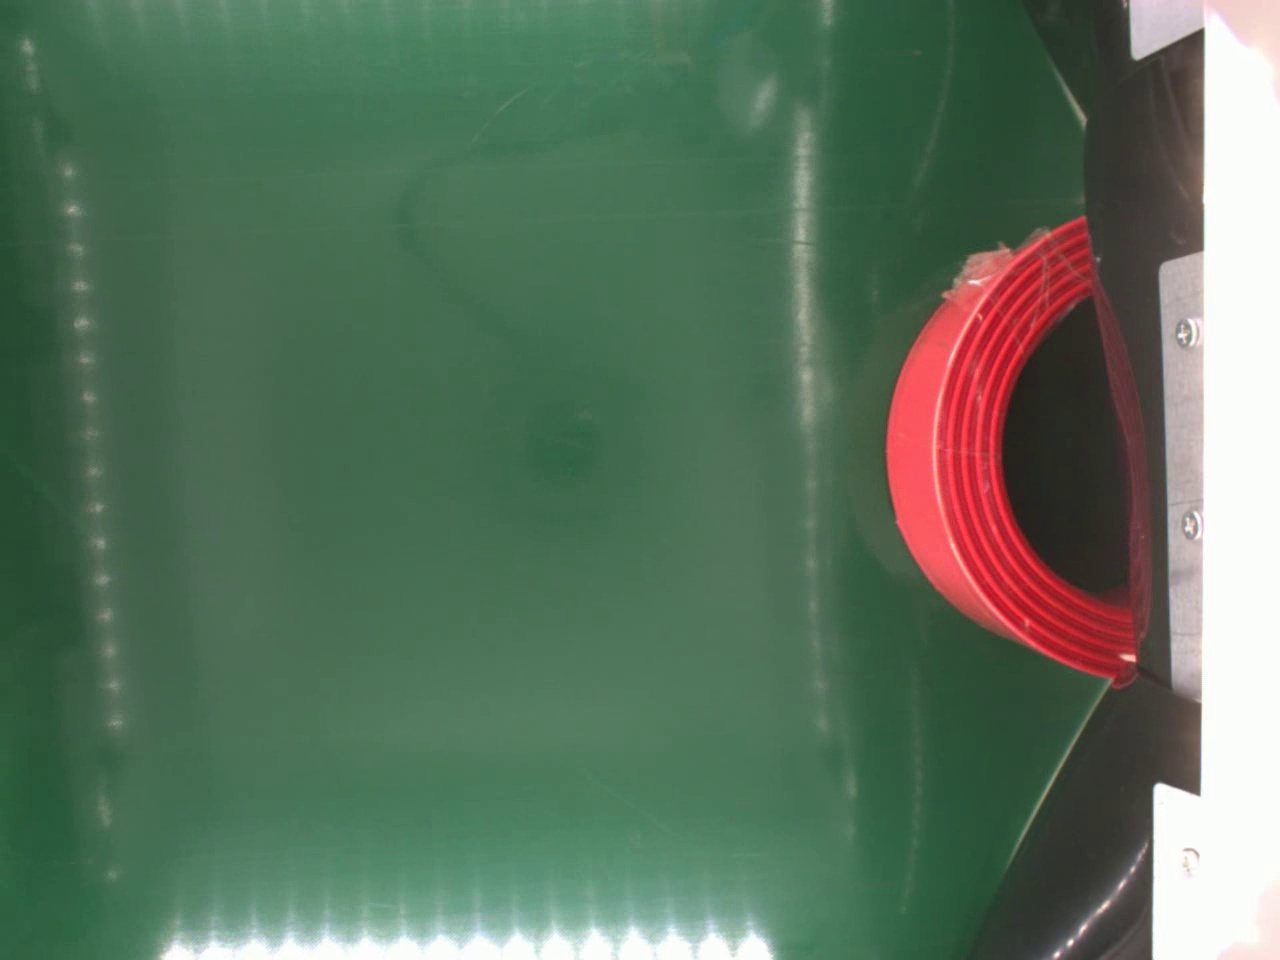red: (882, 217, 1147, 683)
